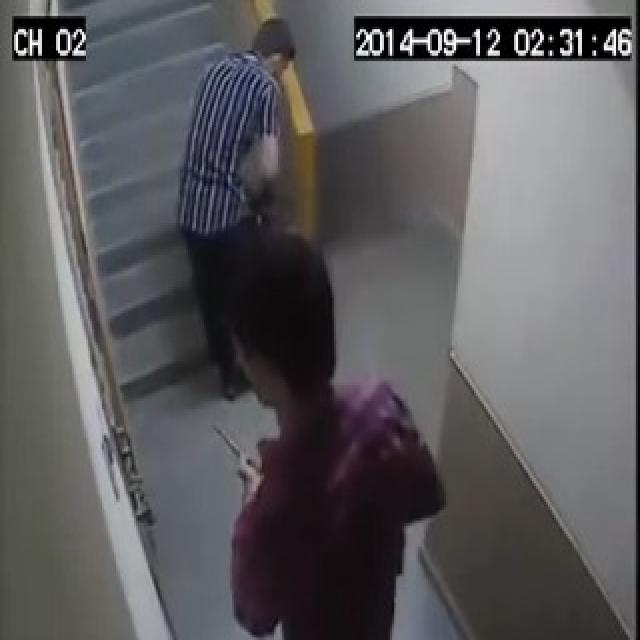thief: (210, 249, 444, 640), (166, 18, 310, 245)
